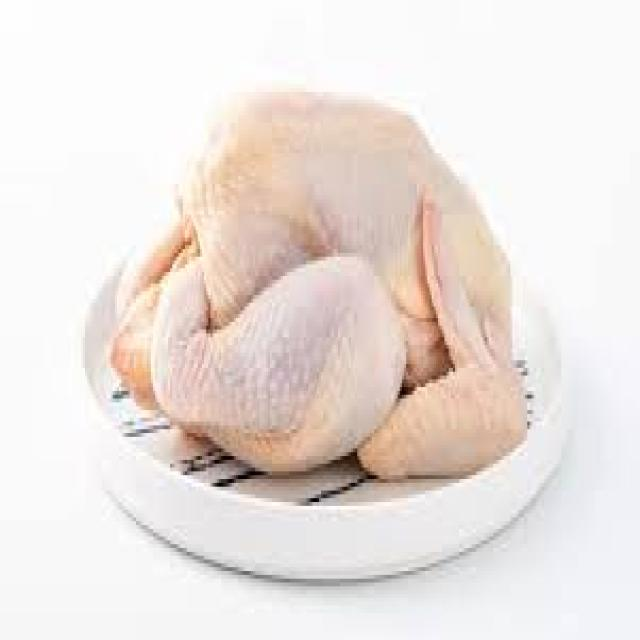chicken: (102, 74, 534, 484)
